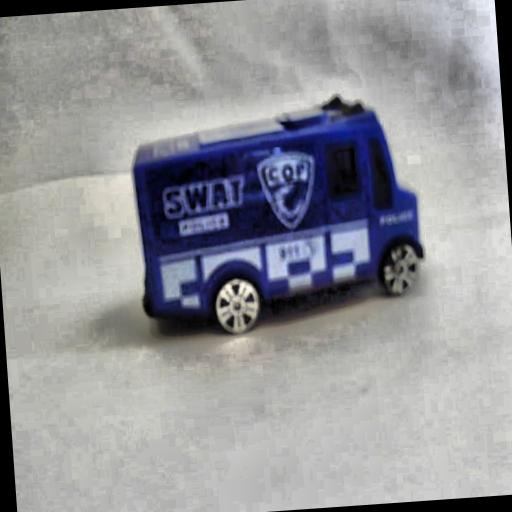police car: (122, 90, 432, 347)
